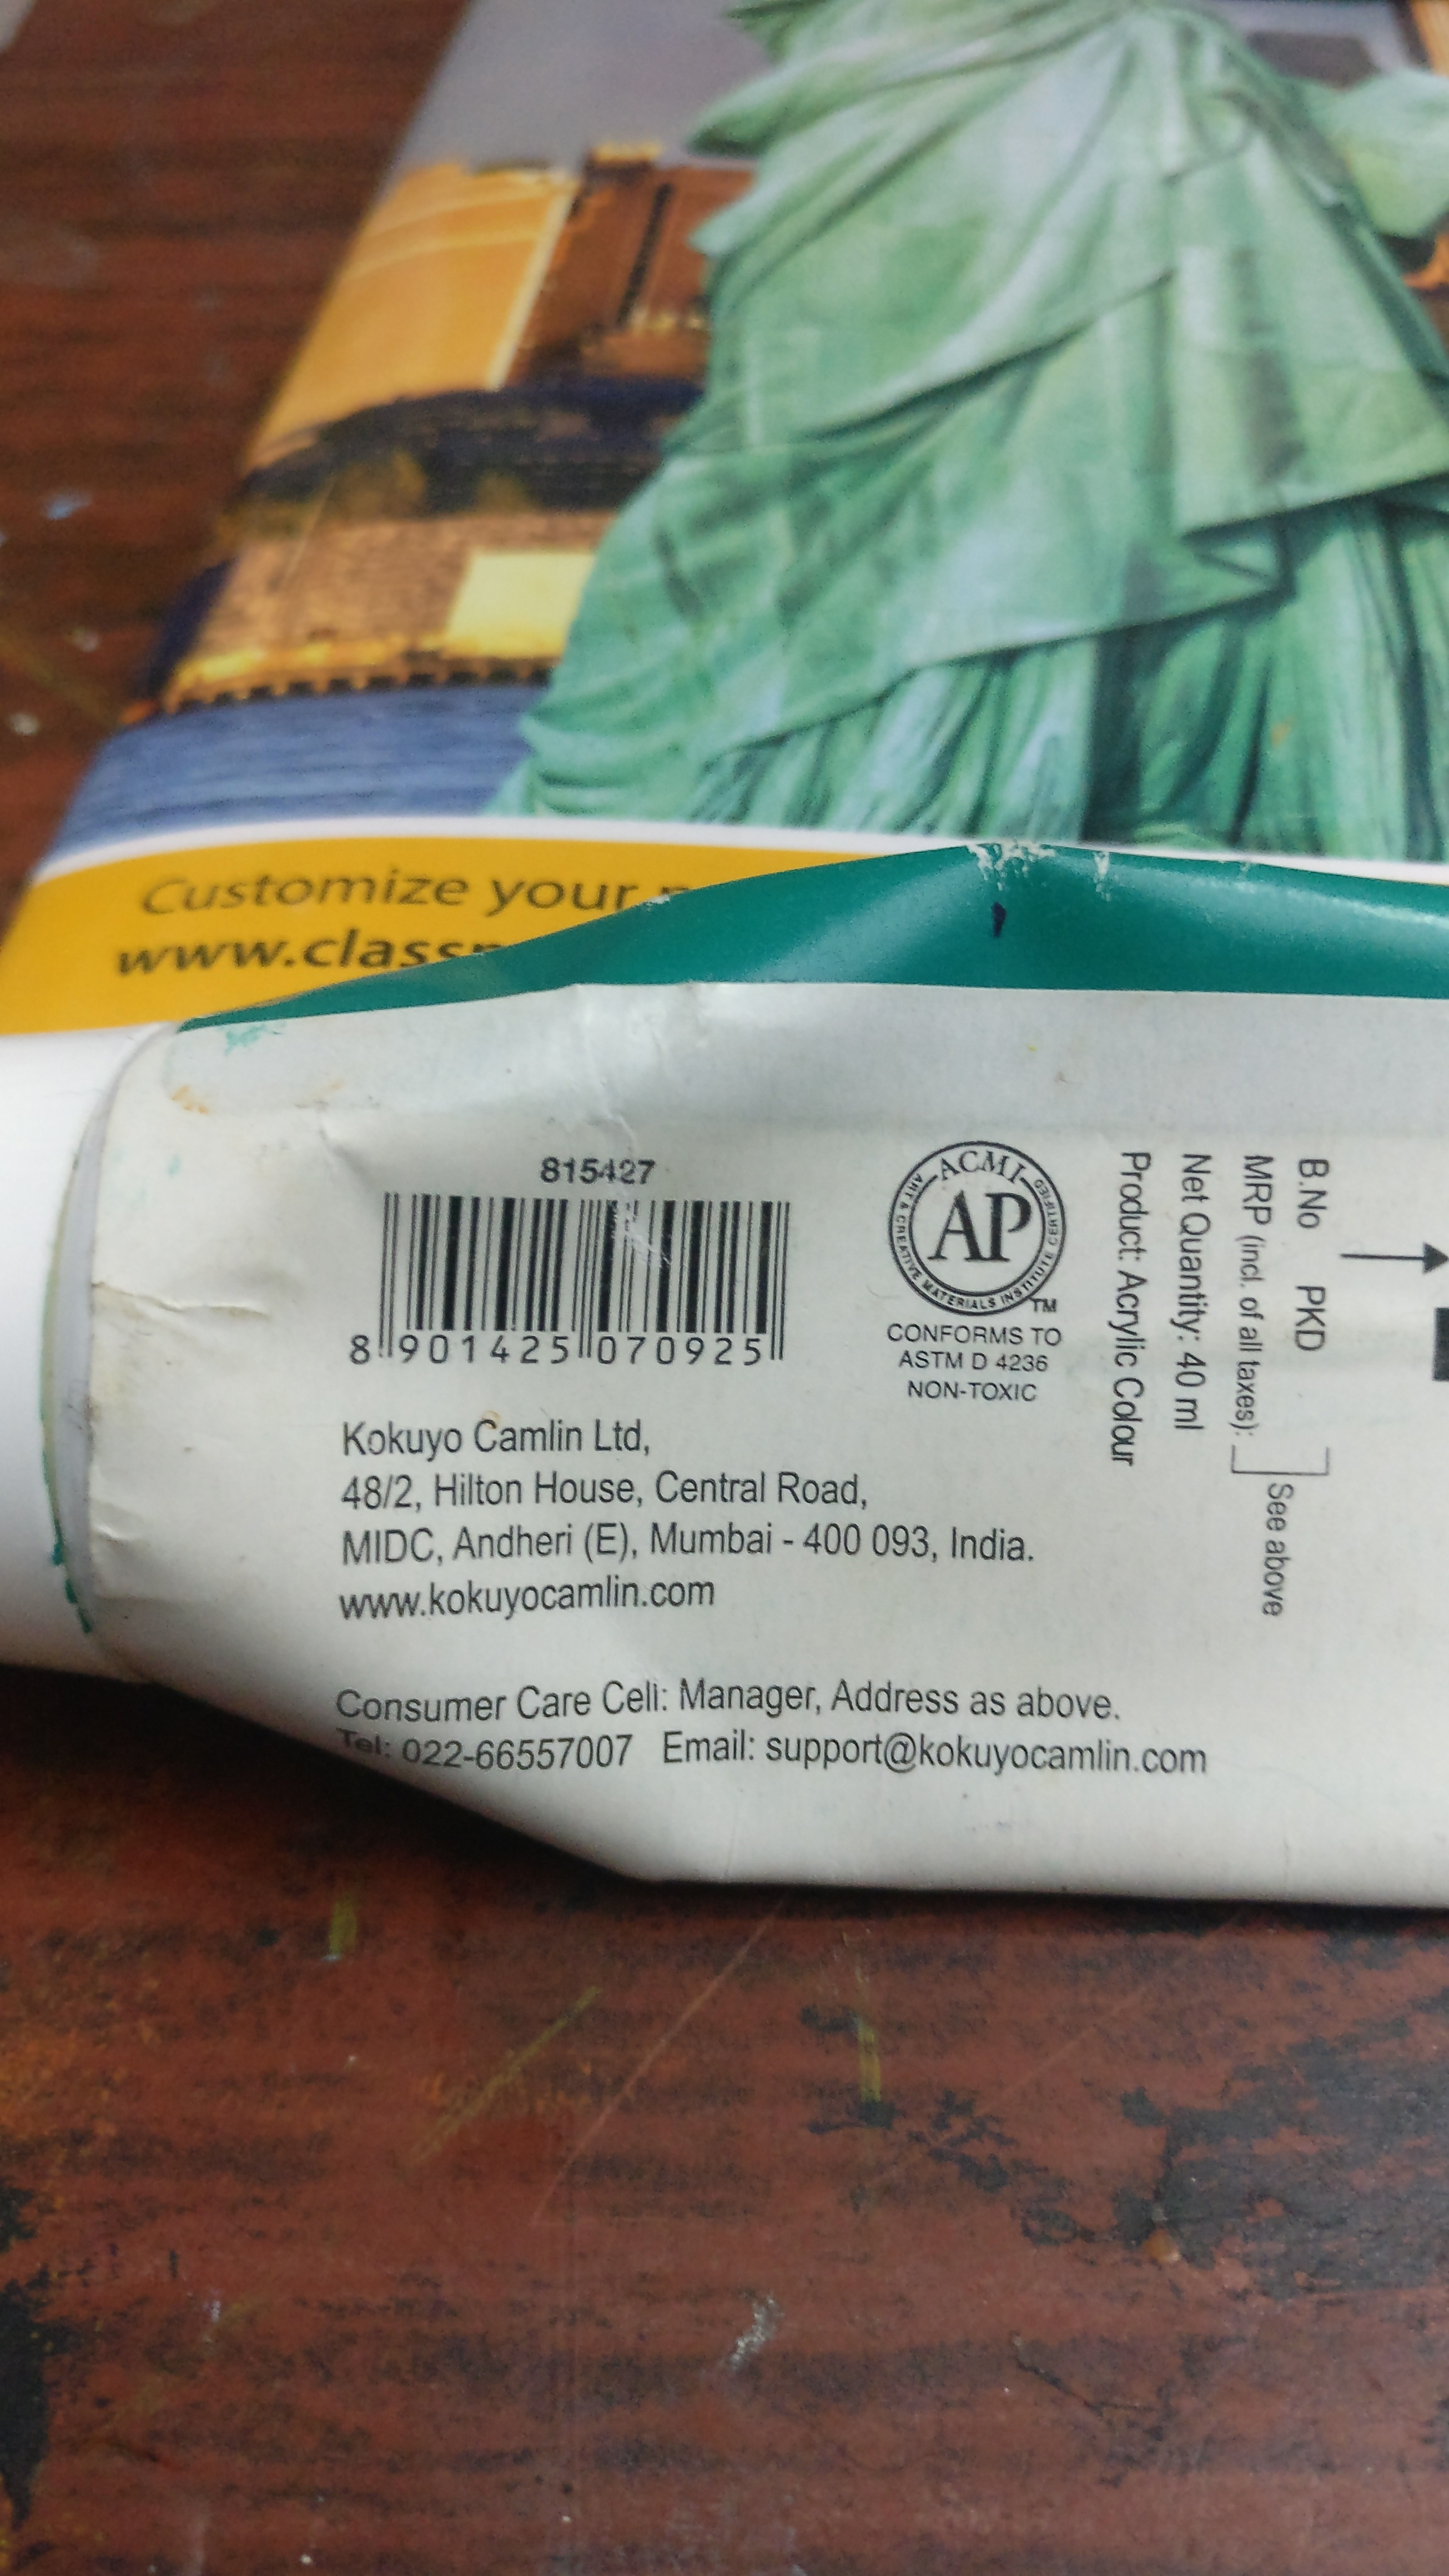barcode: (334, 1162, 846, 1396)
